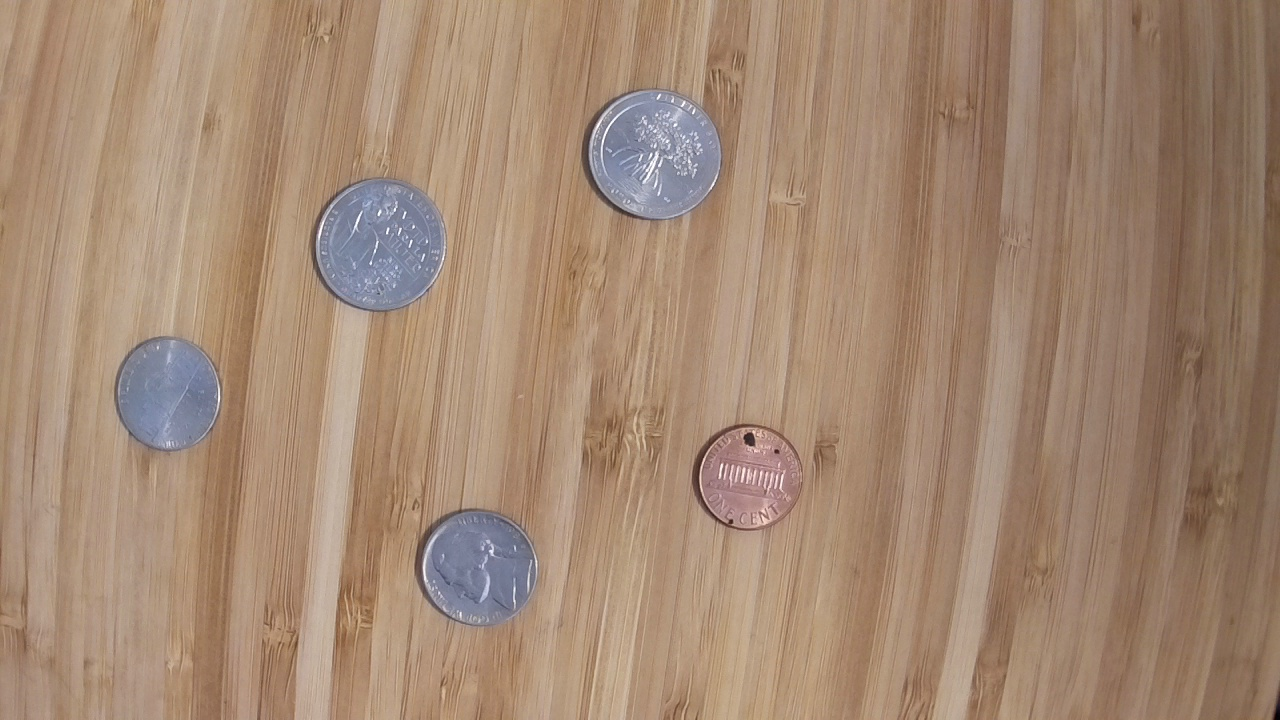nickel: (416, 506, 538, 628), (113, 335, 223, 455)
penny: (691, 420, 807, 532)
quarter: (308, 174, 450, 316), (582, 85, 724, 221)
